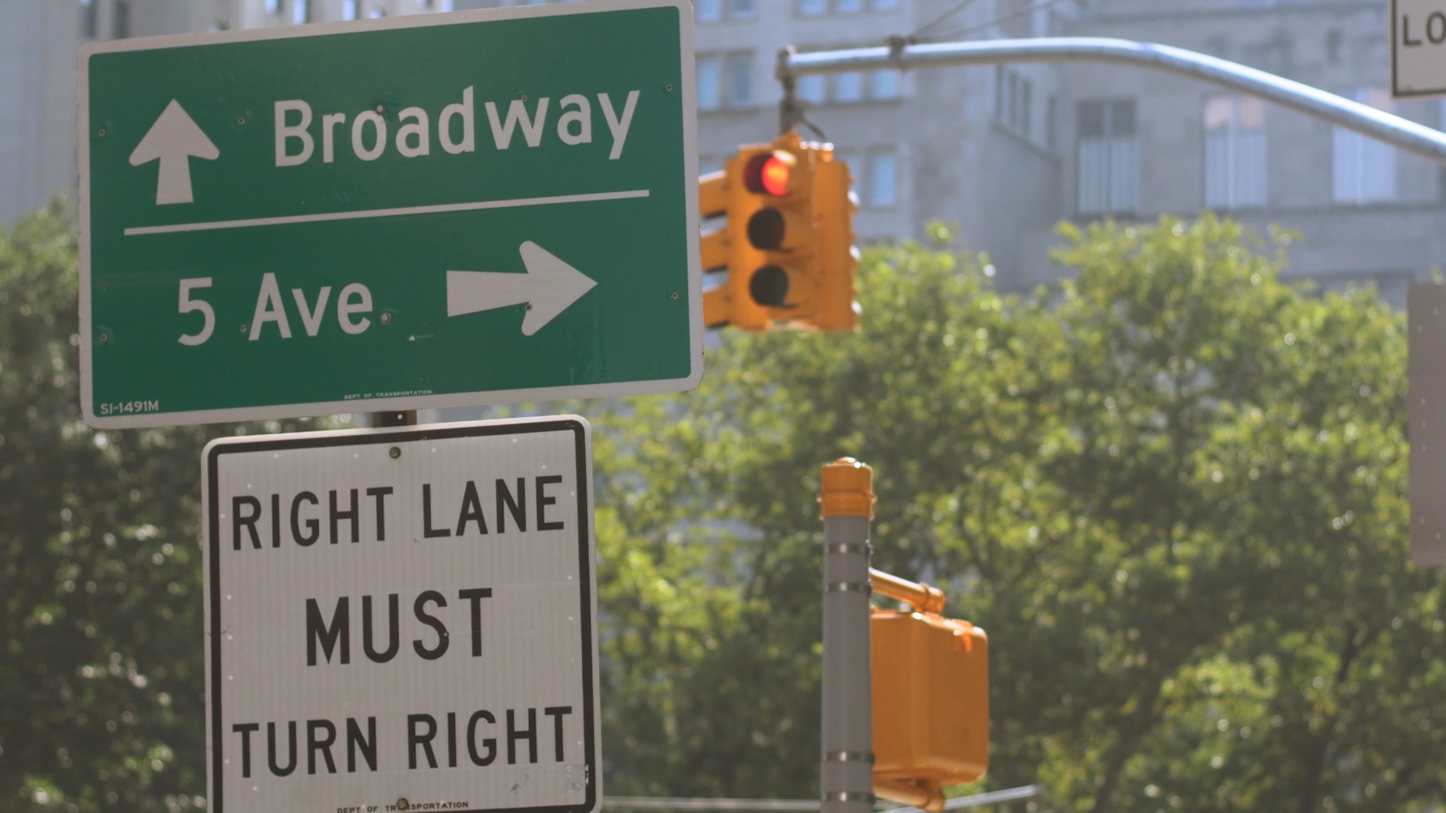red traffic light: (714, 142, 813, 321)
